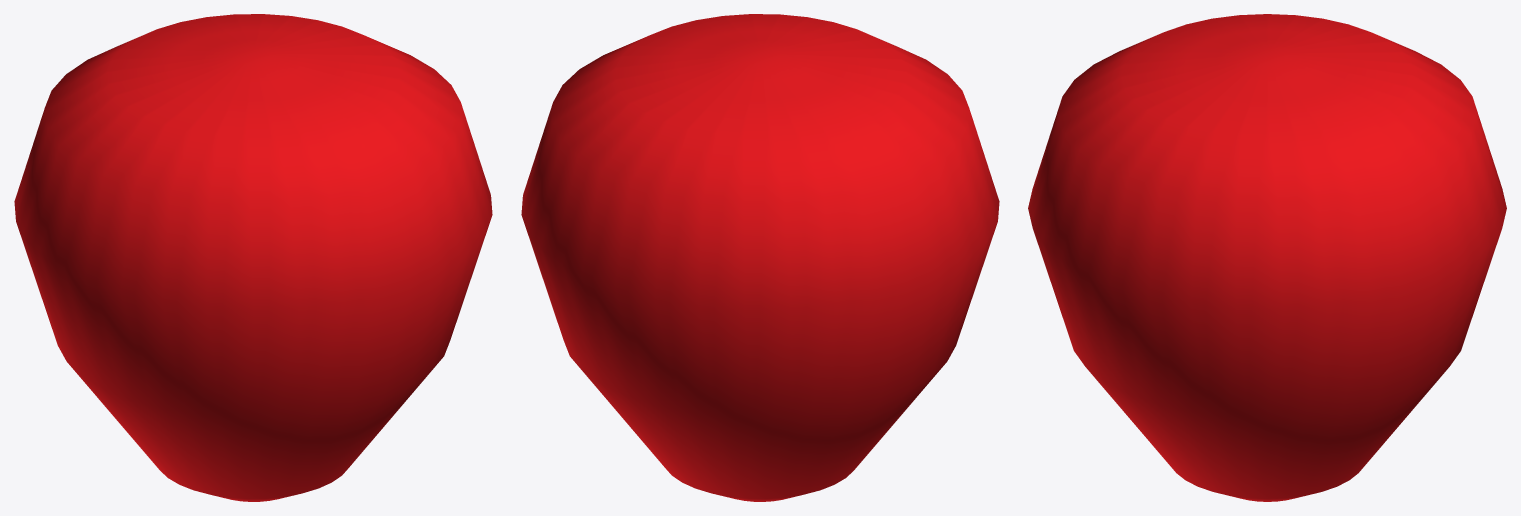
File: Strawberry_fruit.fbx
The picture shows the model from 3 angles, left to right: view 1: azimuth 30°, elevation 25°; view 2: azimuth 150°, elevation 25°; view 3: azimuth 270°, elevation 25°; orthographic projection.
Parts seen in each view (by area): view 1: strawberry.001; view 2: strawberry.001; view 3: strawberry.001.
Part boxes in pixels (x1=…): strawberry.001: x1=14, y1=14, x2=492, y2=501; strawberry.001: x1=521, y1=14, x2=999, y2=501; strawberry.001: x1=1028, y1=14, x2=1506, y2=501.
Size of the model in its own units: 229 by 229 by 229.
